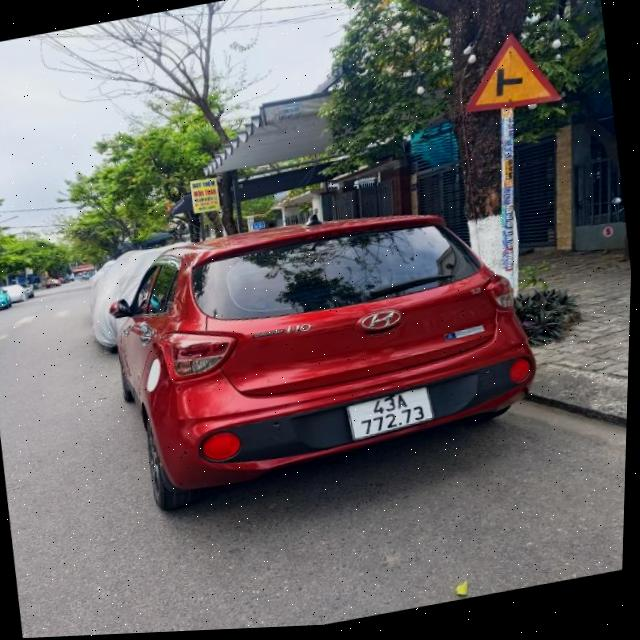car: (81, 179, 557, 523), (0, 281, 14, 318)
plate: (340, 380, 442, 447)
